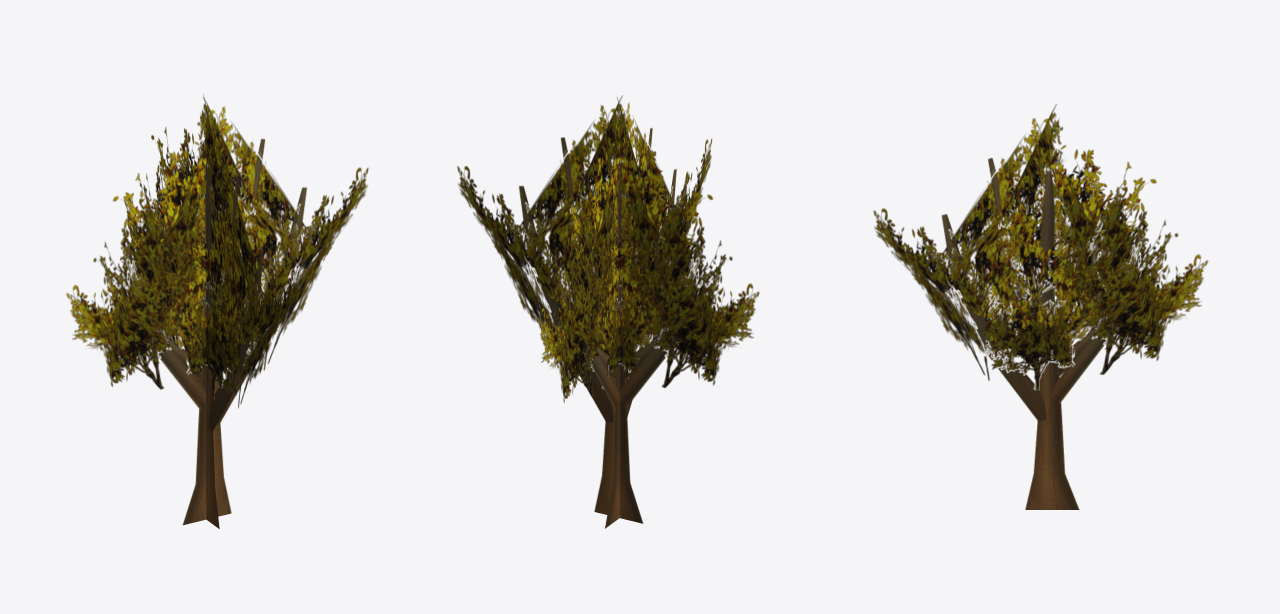
File: stklib_autumnTree_b_low.glb
3 views of the same model, side by side, from view 1: azimuth 30°, elevation 25°; view 2: azimuth 150°, elevation 25°; view 3: azimuth 270°, elevation 25° (orthographic). The views are drawn at different scales.
Parts seen in each view (by area): view 1: tree_b.png__; view 2: tree_b.png__; view 3: tree_b.png__.
Boxes of the visible parts, left/top/right/bottom form: tree_b.png__: left=66, top=94, right=368, bottom=528; tree_b.png__: left=457, top=95, right=759, bottom=528; tree_b.png__: left=873, top=104, right=1208, bottom=509.
Bounding box in the file's own units: 13.94 × 14.69 × 13.94.
Materials: 1 (1 with a texture image).
